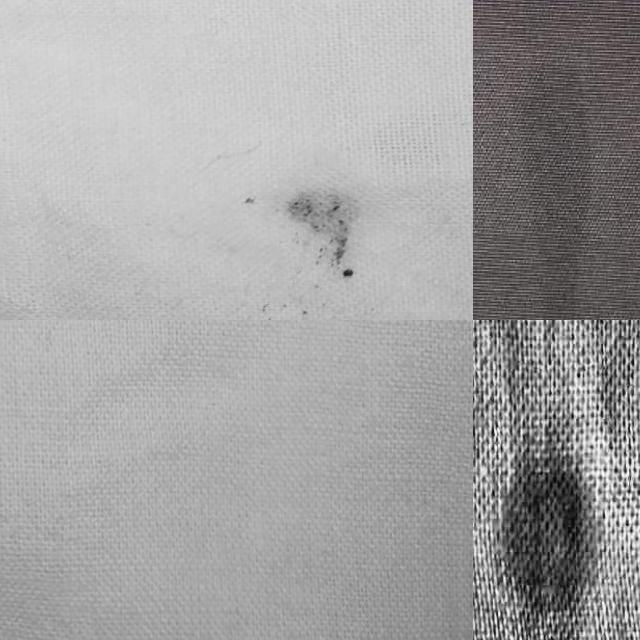Hole: (473, 385, 630, 636), (173, 157, 411, 320)
